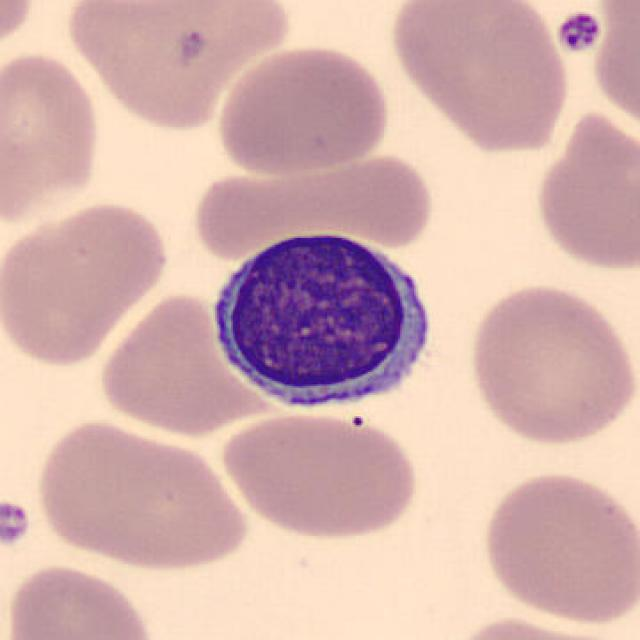Lymphocyte: (199, 220, 443, 422)
Platelets: (553, 7, 604, 56), (0, 497, 34, 550)
RBC: (31, 416, 252, 573), (60, 0, 298, 134), (462, 278, 636, 450), (0, 198, 174, 368), (384, 0, 574, 155), (217, 407, 423, 543), (476, 467, 638, 626), (94, 289, 268, 437), (212, 40, 394, 180), (0, 46, 105, 231), (530, 106, 638, 275), (302, 148, 438, 250), (2, 559, 160, 640), (588, 2, 638, 138), (436, 612, 630, 640), (0, 0, 41, 65)
